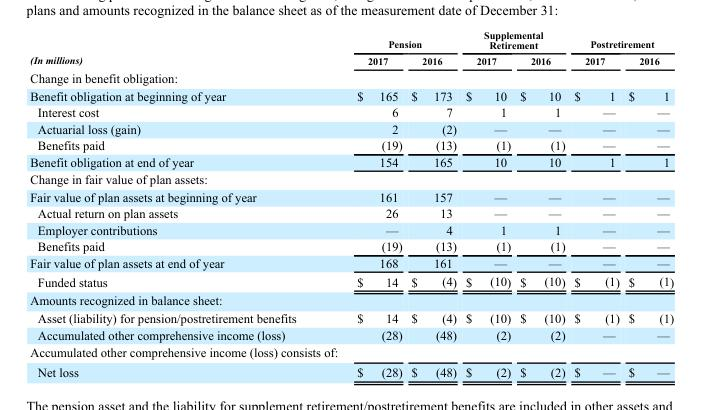table: (29, 28, 673, 379)
table column: (29, 28, 325, 379), (325, 28, 406, 379), (514, 28, 569, 379), (406, 28, 460, 379), (460, 28, 514, 379), (569, 28, 623, 379), (623, 28, 673, 379)
table column header: (29, 28, 673, 68)
table projected row header: (29, 290, 673, 309), (29, 343, 673, 362), (29, 68, 673, 86), (29, 170, 673, 187)
table row: (29, 28, 673, 52), (29, 271, 673, 290), (29, 290, 673, 309), (29, 343, 673, 362), (29, 68, 673, 86), (29, 86, 673, 103), (29, 103, 673, 120), (29, 136, 673, 153), (29, 153, 673, 170), (29, 170, 673, 187), (29, 187, 673, 204), (29, 204, 673, 221), (29, 237, 673, 254), (29, 254, 673, 271), (29, 309, 673, 326), (29, 326, 673, 343), (29, 362, 673, 379), (29, 52, 673, 68), (29, 120, 673, 136), (29, 221, 673, 237)
table spanning cell: (29, 28, 325, 68), (325, 28, 460, 52), (460, 28, 569, 52), (569, 28, 673, 52)
